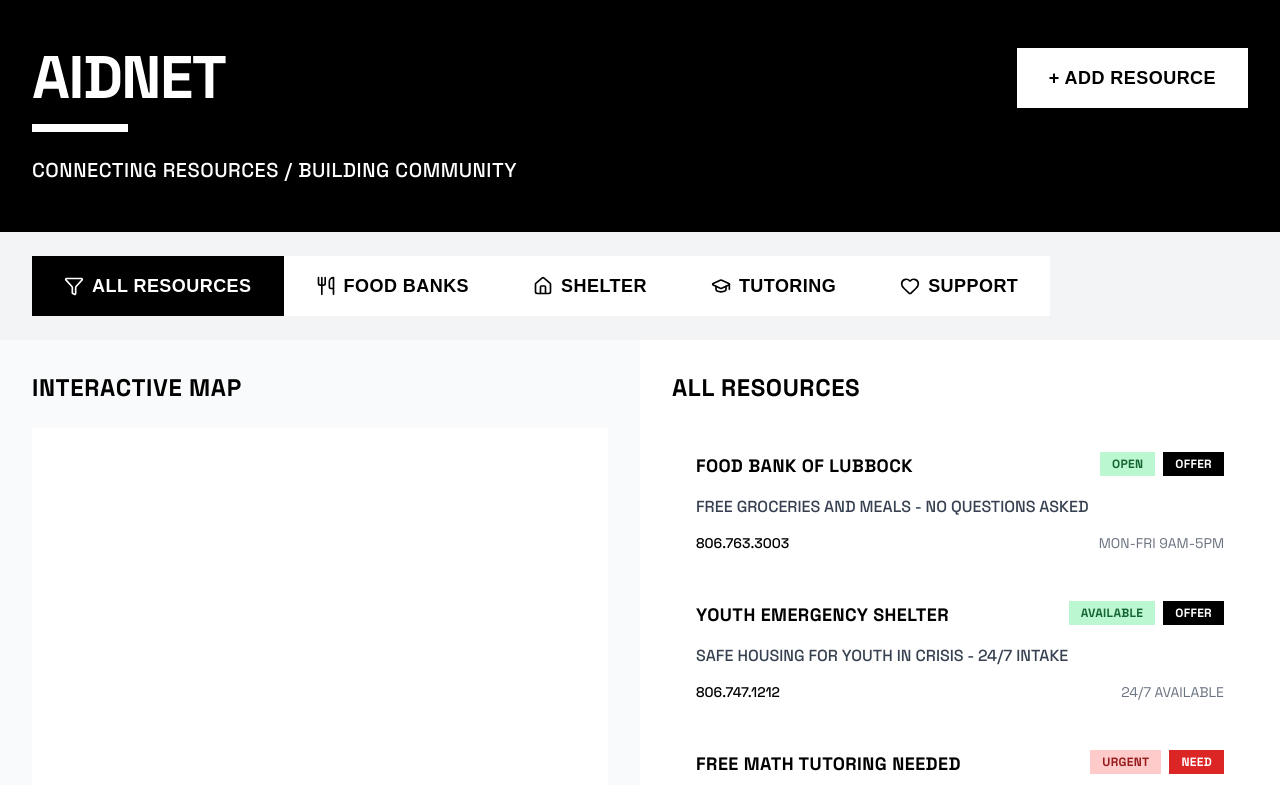
AIDNET Application › opens add resource form when button clicked
Click the button "+ ADD RESOURCE": {"x": 1132, "y": 78} left=1017, top=48, right=1248, bottom=108
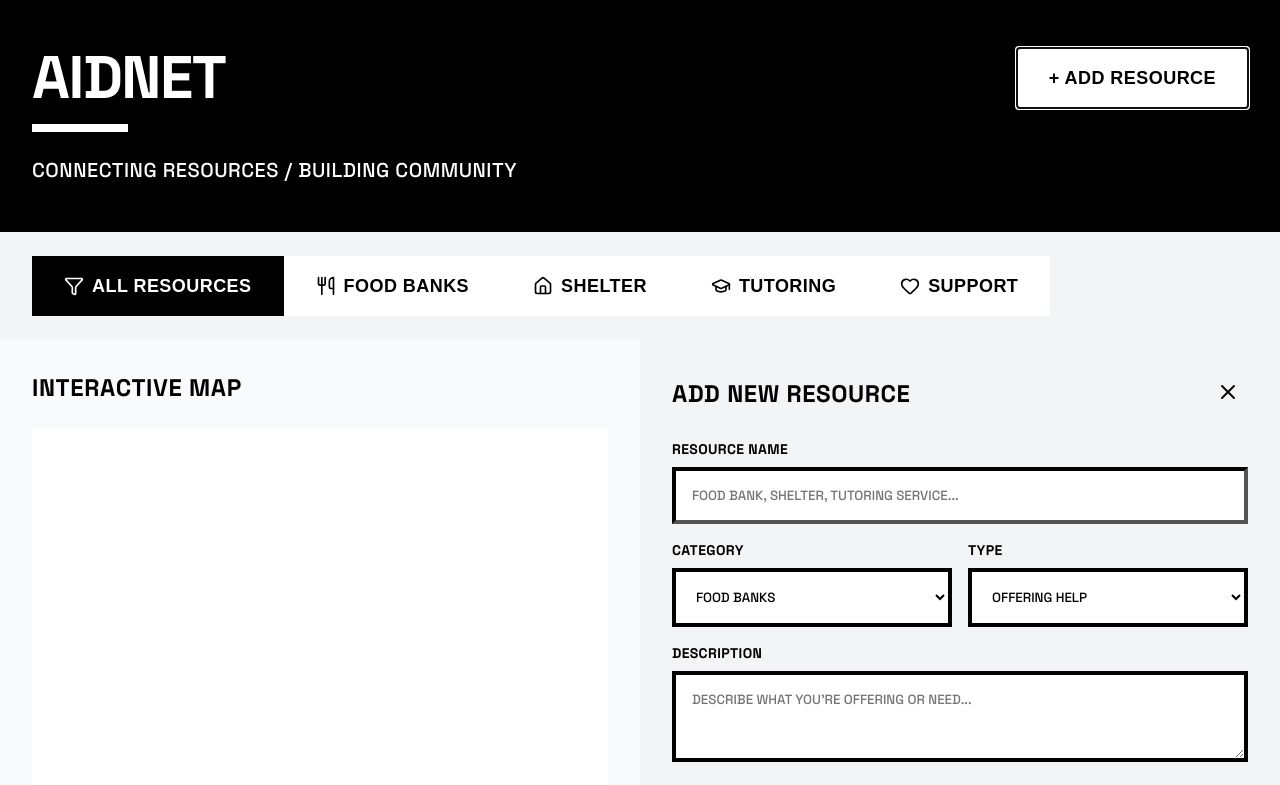
Expected: the heading "ADD NEW RESOURCE" is shown, left=672, top=378, right=910, bottom=410
Expected: the field with placeholder "FOOD BANK, SHELTER, TUTORING SERVICE..." is shown, left=672, top=467, right=1248, bottom=524
